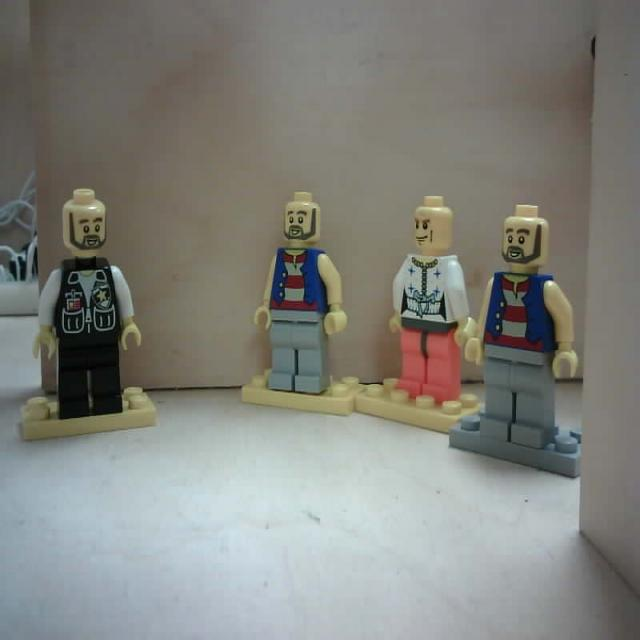Lego-People: (444, 198, 589, 482), (20, 183, 159, 448), (349, 190, 487, 447), (237, 188, 369, 420)
